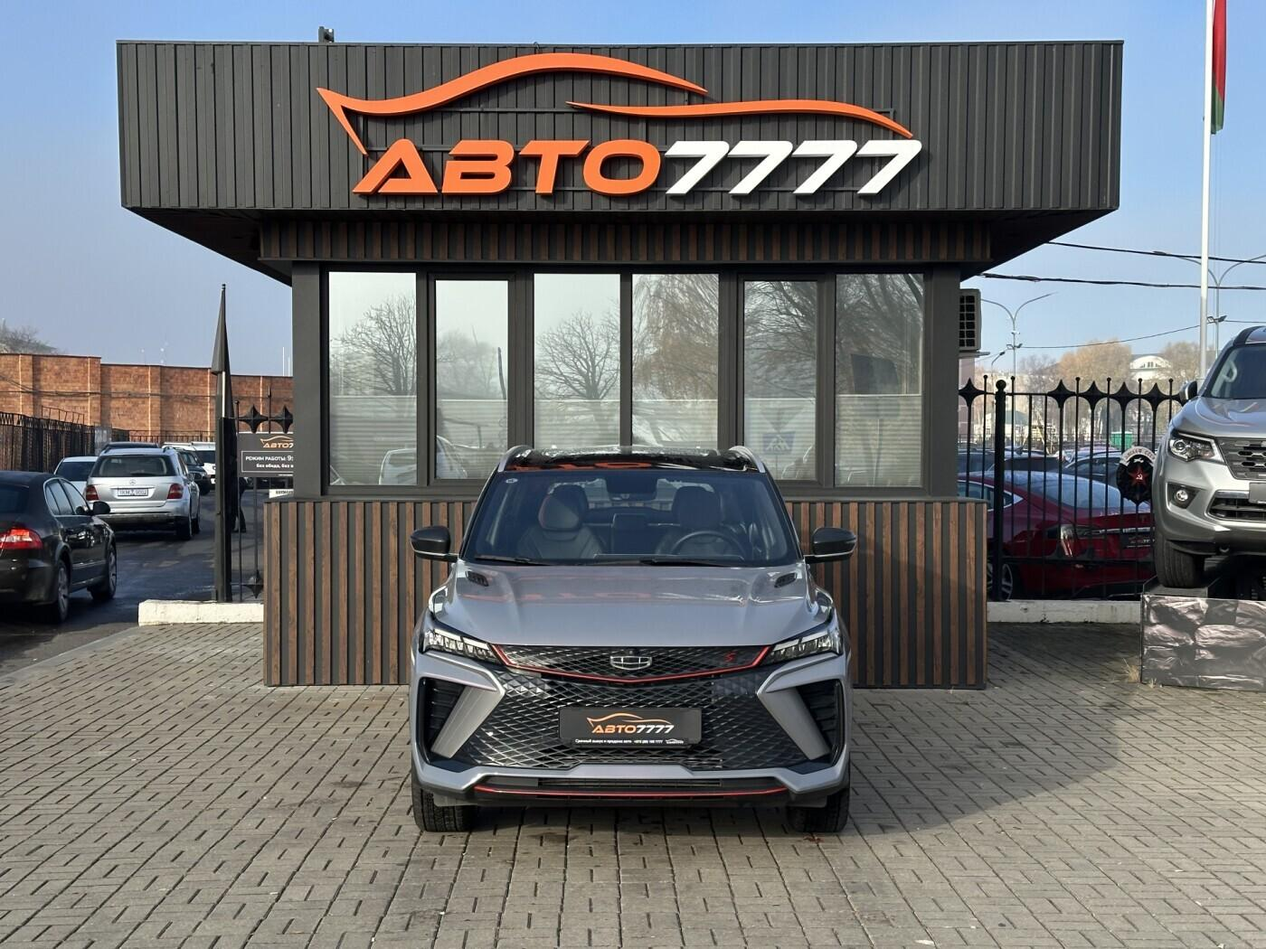Coolray_2019-2023: (407, 435, 863, 838)
